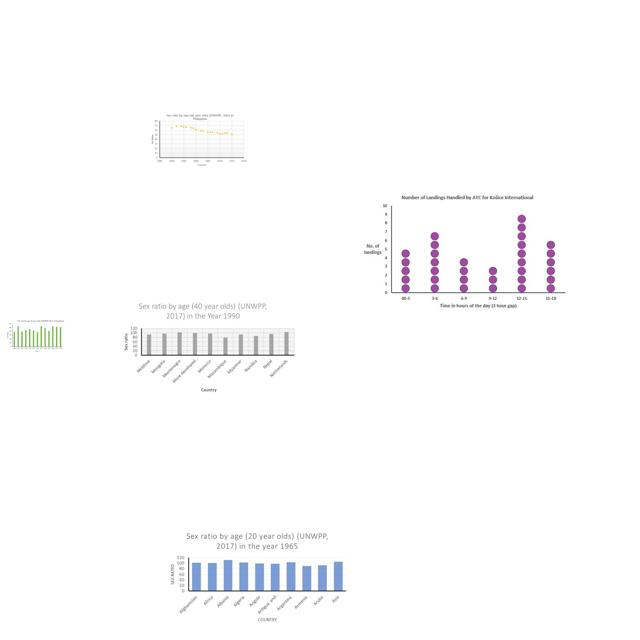Graph: (357, 190, 570, 314), (166, 529, 350, 627), (118, 299, 297, 395), (149, 110, 248, 168), (6, 319, 65, 353)
